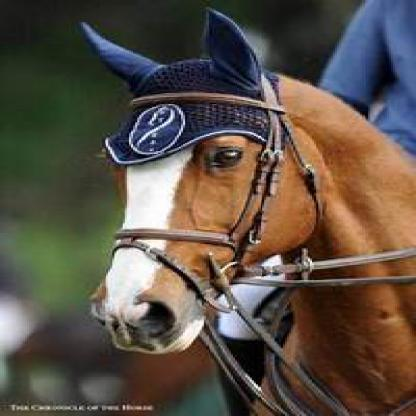horse: (79, 9, 414, 414)
